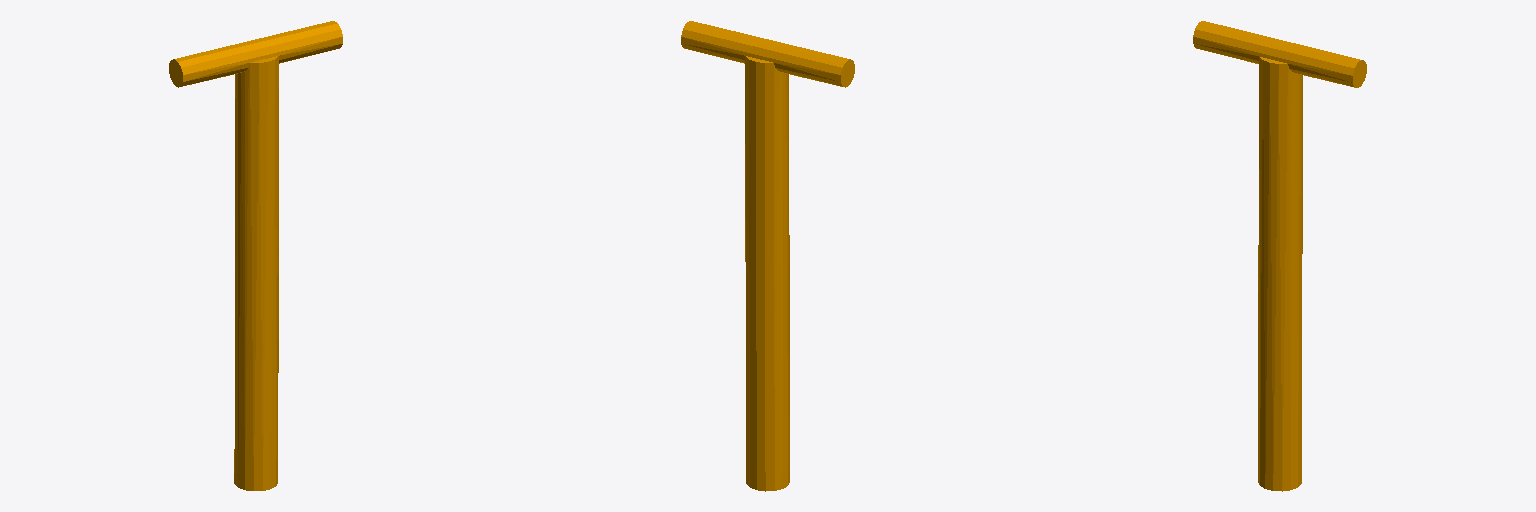
robot.urdf — 00537_plug:
<?xml version="1.0"?>
<robot name="00537_plug">
	<link name="00537_plug">
		<visual>
			<geometry>
				<mesh filename="../mesh/00537/asset_plug.obj"/>
			</geometry>
		</visual>
		<collision>
			<geometry>
				<mesh filename="../mesh/00537/asset_plug.obj"/>
			</geometry>
			<sdf resolution="256"/>
		</collision>
	</link>
</robot>

--- Facts derived from the render (not from the file) ---
Views: 3 orthographic renders of the robot side by side, from view 1: azimuth 30°, elevation 25°; view 2: azimuth 150°, elevation 25°; view 3: azimuth 330°, elevation 25°.
Model 00537_plug with 1 links and 0 joints (none), rooted at 00537_plug, posed every joint at zero.
Visible links, largest first — view 1: 00537_plug; view 2: 00537_plug; view 3: 00537_plug.
Boxes of the visible links, x1,y1,x2,y2 form: 00537_plug: (169,21,342,490); 00537_plug: (681,21,854,491); 00537_plug: (1193,21,1366,491).
Size in the robot's own frame: 0.0298 by 0.0072 by 0.0786 metres.
1 mesh visuals loaded from 1 distinct referenced files (1 OBJ).